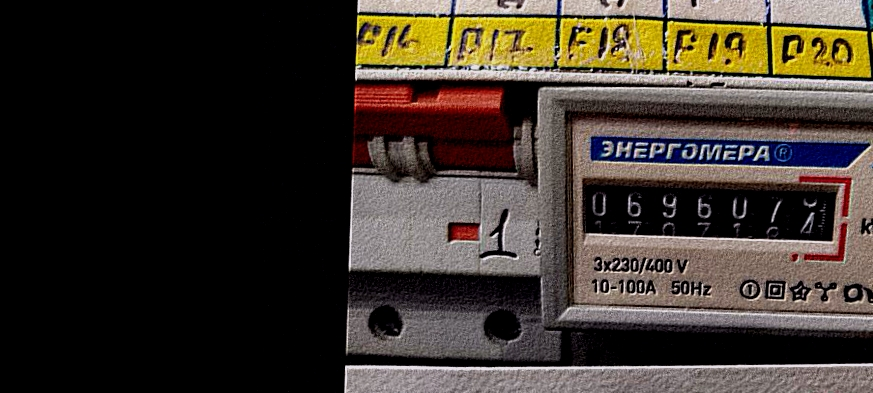0: (589, 189, 611, 219), (731, 192, 751, 222)
4: (798, 210, 818, 239)
6: (695, 191, 716, 223), (625, 190, 645, 219)
7: (766, 193, 785, 224)
9: (660, 191, 681, 221)
screen: (570, 162, 856, 264)
